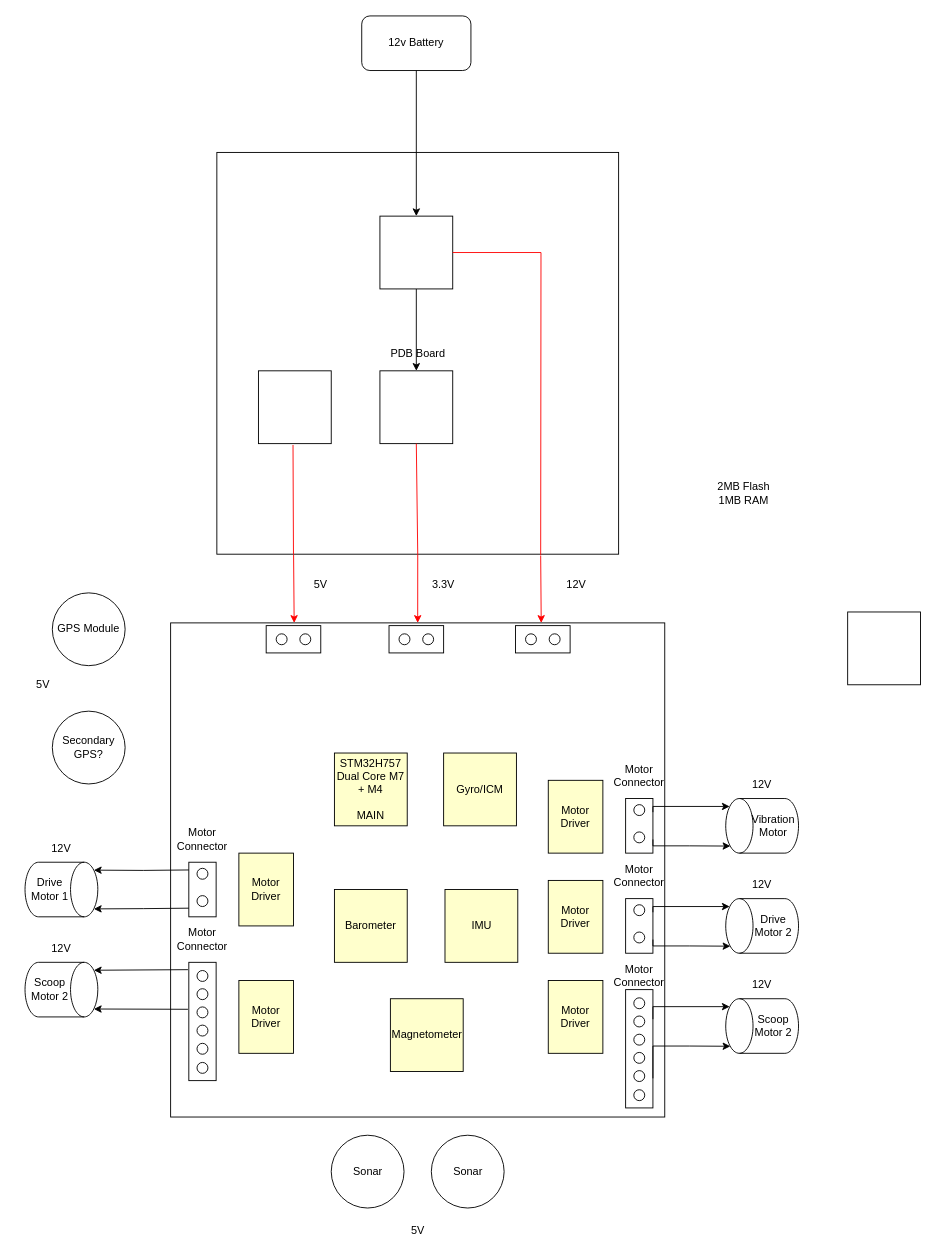
This 936x1260 diagram has some shape labels left out. The box of each missing label's shape, as (x1, y1, x2, y2) in pixels:
3.3V LDO: (379, 370, 453, 444)
5V LDO: (258, 370, 331, 444)
Accelormeter: (847, 611, 920, 685)
Controller Board: (170, 622, 665, 1117)
Switching Regulator Circuitry: (379, 215, 453, 289)
